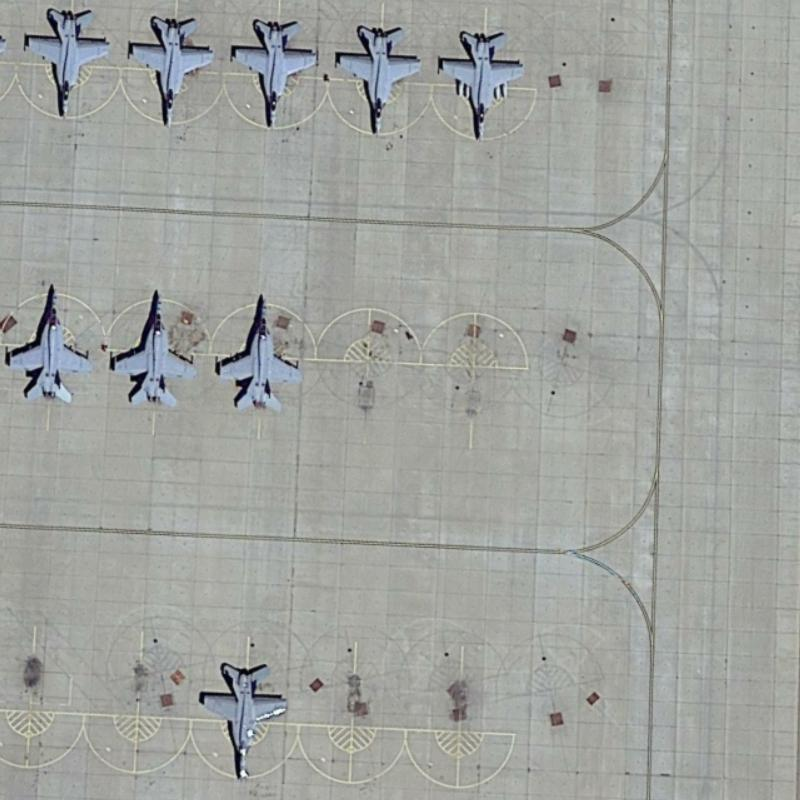A16: (330, 17, 427, 139), (105, 284, 198, 409), (211, 292, 306, 414), (430, 26, 528, 144), (196, 658, 289, 781), (20, 1, 115, 121), (2, 280, 93, 405), (124, 11, 218, 131), (225, 13, 318, 130)
